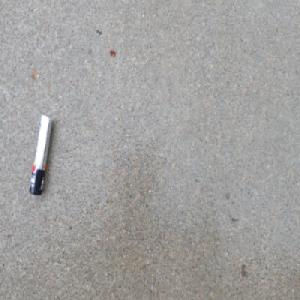Battery: (28, 112, 53, 198)
